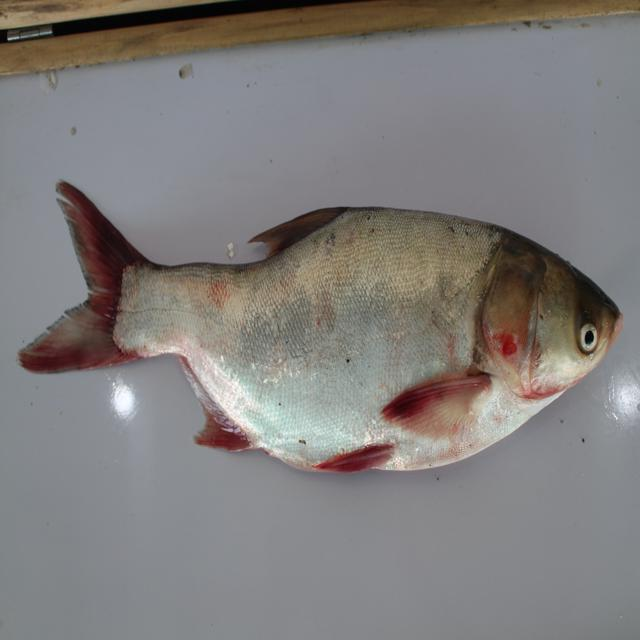Silver Carp: (21, 178, 620, 488)
